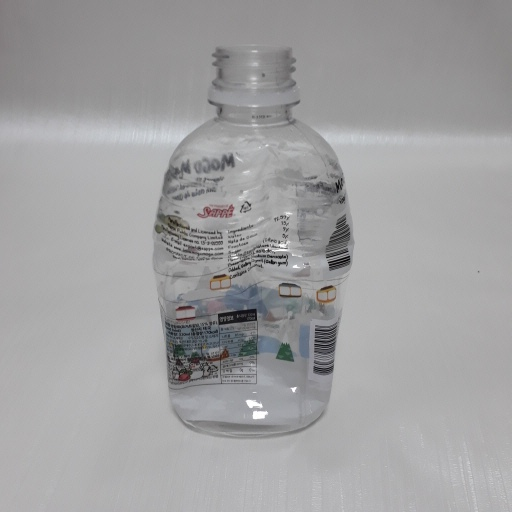Plastic_0: (152, 42, 355, 438)
